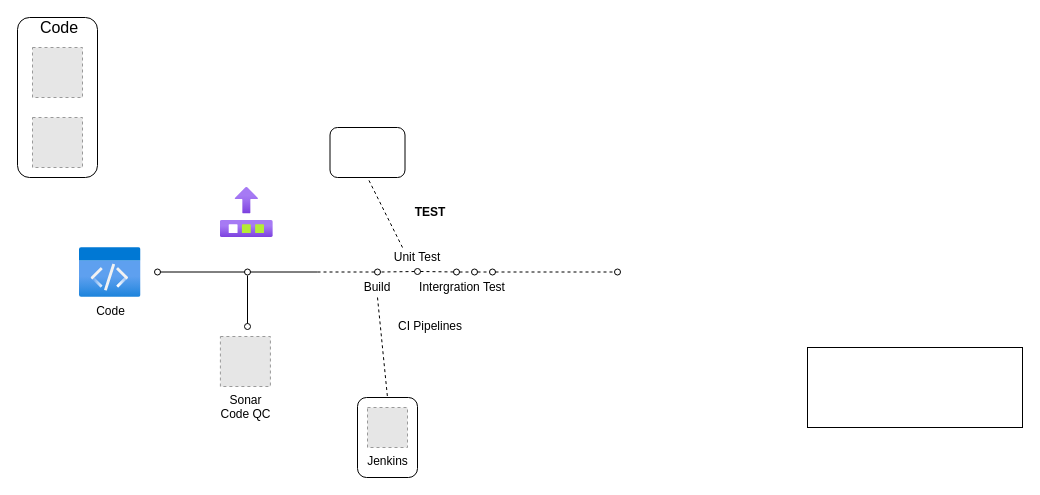
Image size: 1040x495. Some labels were removed from this diagram. Grey dashed boxes stand in for pictures. The shapes that lost their labels are listed below. From the top down, each one's centre as x and y in pixels, then its label:
pixel 367 152: JUnit Prowermock Mockito
pixel 246 212: Commit
